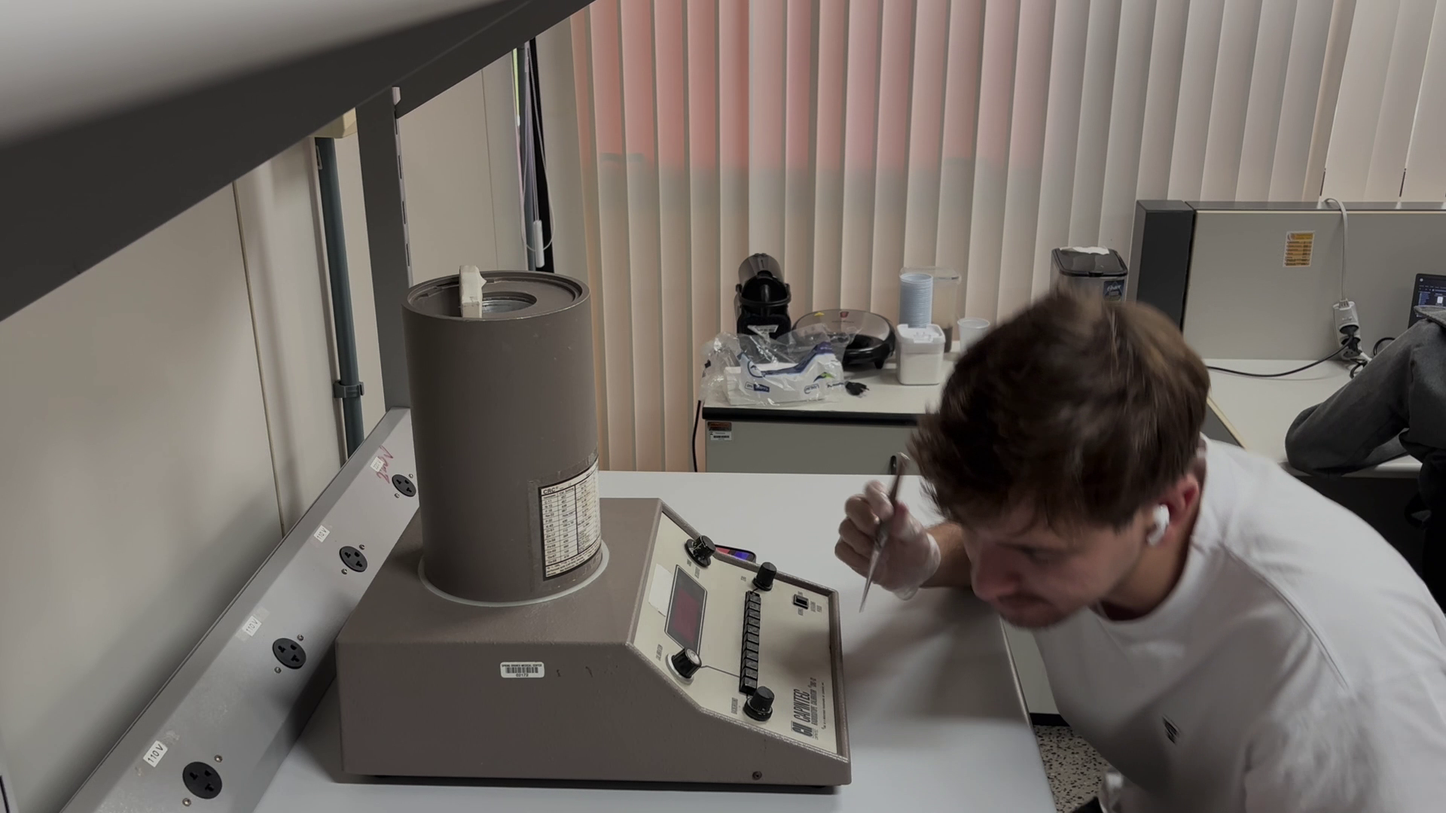Ativimetro: (398, 267, 609, 606)
Com_Luva: (834, 477, 942, 604)
